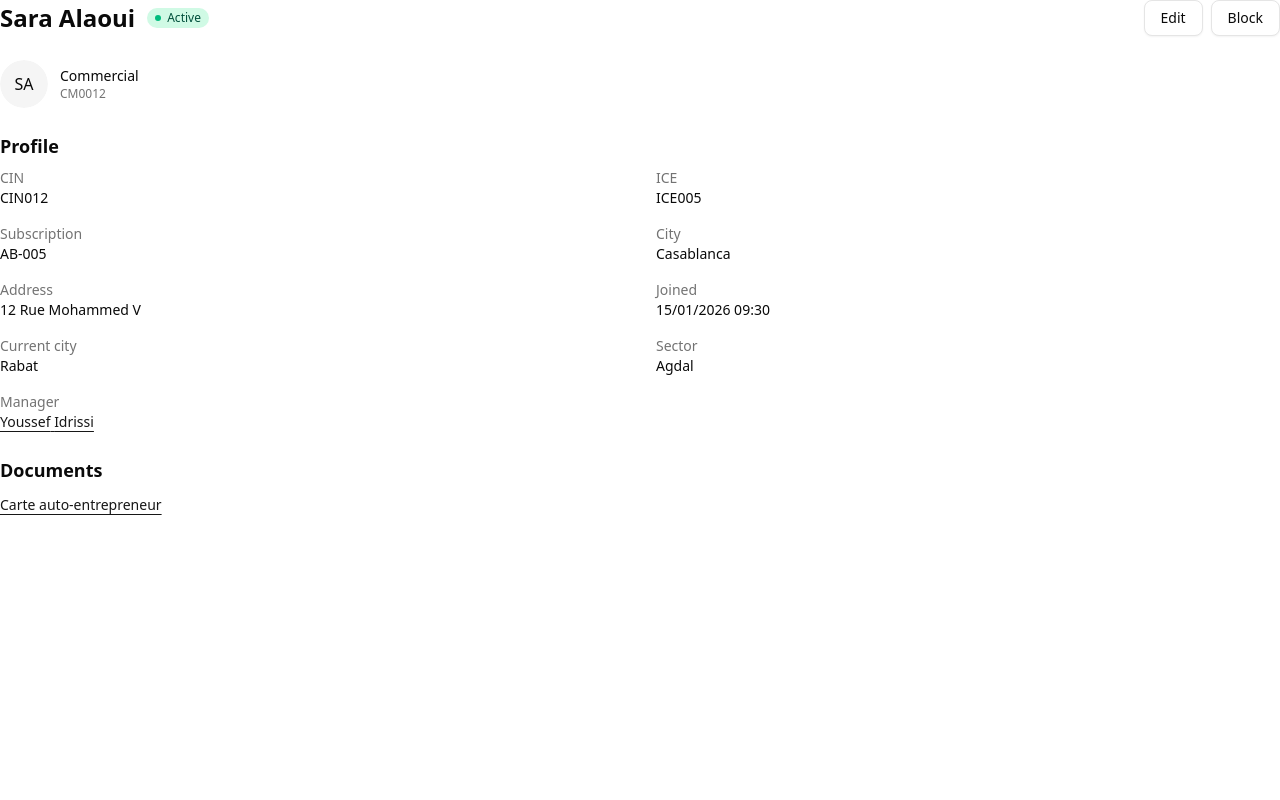
Edit — permission gating and seeding (M7 Phase 1.5) › seeds the drawer with the commercial's values and only the commercial-only fields
Click the button "Edit": (1173, 18) [1144, 0, 1203, 36]
(page scrolled)
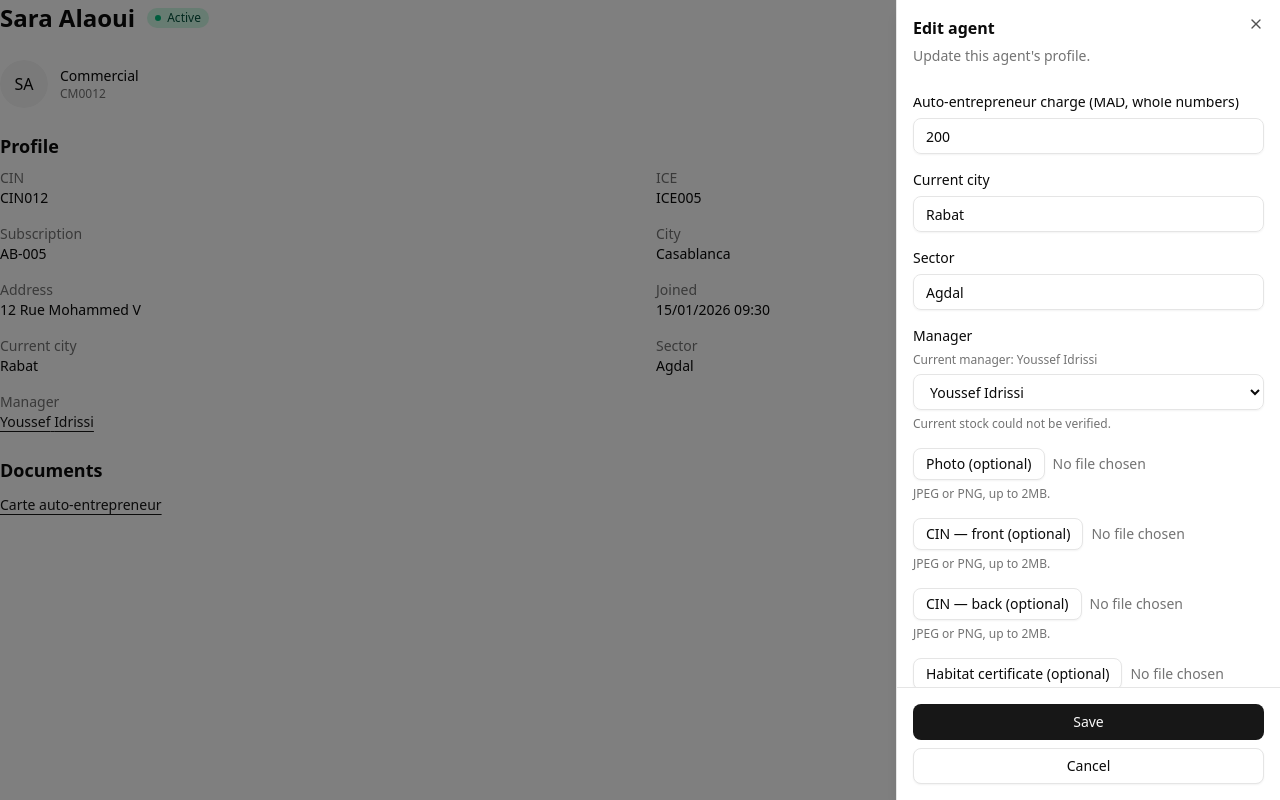
Expected: the field labelled "Current city" holds "Rabat", [913, 196, 1264, 232]
Expected: the field labelled "Sector" holds "Agdal", [913, 274, 1264, 310]
Expected: the dropdown labelled "Manager" shows "Youssef Idrissi", [913, 374, 1264, 410]
